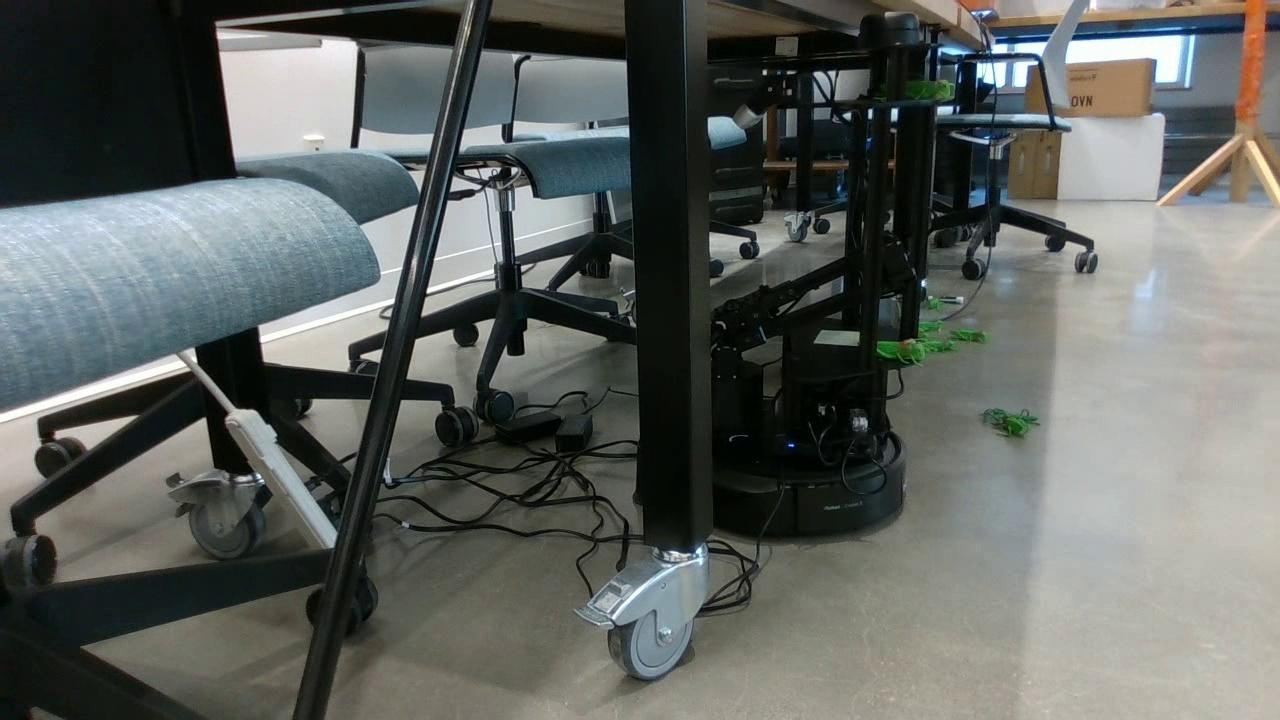grasshopper: (876, 71, 958, 107), (869, 338, 925, 370), (985, 415, 1036, 443), (945, 329, 990, 348), (911, 338, 956, 355), (918, 295, 942, 315)
